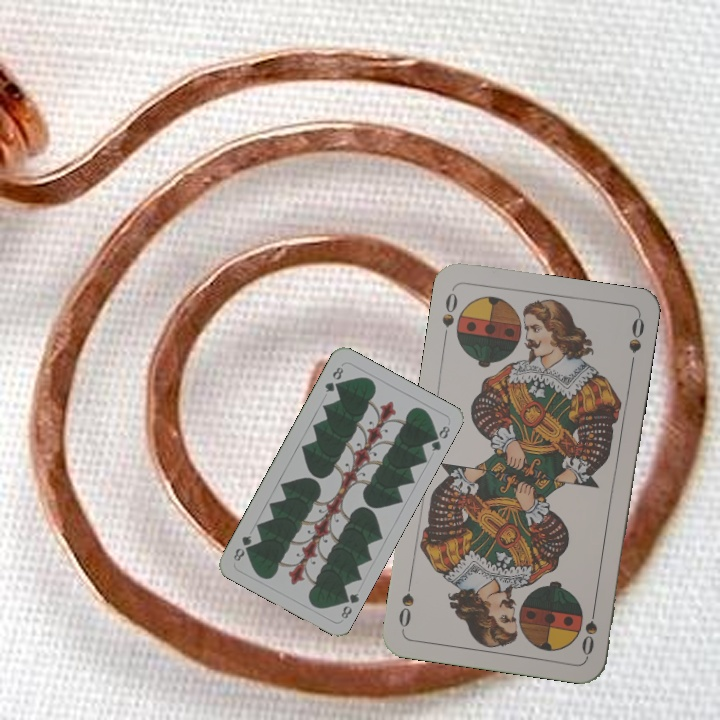G8: (336, 589, 362, 621), (321, 363, 346, 395)
SO: (577, 599, 600, 658), (438, 285, 460, 344)
